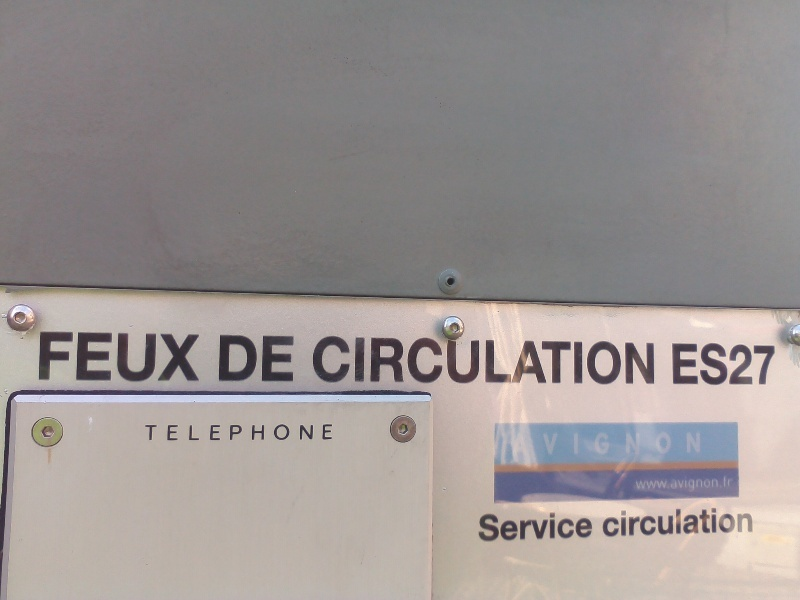text: (321, 336, 336, 390), (337, 336, 352, 390), (353, 336, 368, 390), (369, 336, 384, 390), (385, 336, 400, 390), (401, 336, 416, 390), (417, 336, 432, 390), (433, 336, 448, 390), (449, 336, 464, 390), (465, 336, 480, 390), (481, 336, 496, 390), (497, 336, 512, 390), (513, 336, 528, 390), (529, 336, 544, 390), (545, 336, 560, 390), (561, 336, 576, 390), (577, 336, 592, 390), (593, 336, 608, 390), (609, 336, 624, 390), (625, 336, 640, 390), (641, 336, 656, 390), (49, 331, 64, 383), (65, 331, 80, 383), (81, 331, 96, 383), (97, 331, 112, 383), (113, 331, 128, 383), (129, 331, 144, 383), (145, 331, 160, 383), (161, 331, 176, 383), (177, 331, 192, 383), (225, 334, 240, 384), (241, 334, 256, 384), (257, 334, 272, 384), (273, 334, 288, 384), (673, 342, 688, 388), (689, 342, 704, 388), (705, 342, 720, 388), (721, 342, 736, 388), (737, 342, 752, 388), (753, 342, 768, 388), (609, 505, 624, 539), (625, 505, 640, 539), (641, 505, 656, 539), (657, 505, 672, 539), (673, 505, 688, 539), (689, 505, 704, 539), (705, 505, 720, 539), (721, 505, 736, 539), (737, 505, 752, 539), (289, 334, 299, 384), (481, 511, 496, 543), (497, 511, 512, 543), (513, 511, 528, 543), (529, 511, 544, 543), (545, 511, 560, 543), (561, 511, 576, 543), (577, 511, 592, 543), (769, 342, 779, 388), (513, 430, 528, 459), (529, 430, 544, 459), (545, 430, 560, 459), (561, 430, 576, 459), (577, 430, 592, 459), (593, 430, 608, 459), (609, 430, 624, 459), (625, 430, 640, 459), (641, 430, 656, 459), (657, 430, 672, 459), (673, 430, 688, 459), (657, 336, 665, 390), (40, 331, 48, 383), (193, 331, 201, 383), (689, 430, 702, 459), (314, 336, 320, 390), (218, 334, 224, 384), (145, 423, 160, 442), (161, 423, 176, 442), (177, 423, 192, 442), (193, 423, 208, 442), (209, 423, 224, 442), (225, 423, 240, 442), (241, 423, 256, 442), (257, 423, 272, 442), (273, 423, 288, 442), (289, 423, 304, 442), (305, 423, 320, 442), (321, 423, 336, 442), (641, 474, 656, 493), (657, 474, 672, 493), (673, 474, 688, 493), (689, 474, 704, 493), (705, 474, 720, 493), (721, 474, 736, 493), (602, 505, 608, 539), (476, 511, 480, 543), (508, 430, 512, 459), (634, 474, 640, 493), (753, 505, 755, 539), (671, 342, 672, 388), (593, 511, 594, 543), (143, 423, 144, 442), (737, 474, 738, 493)
